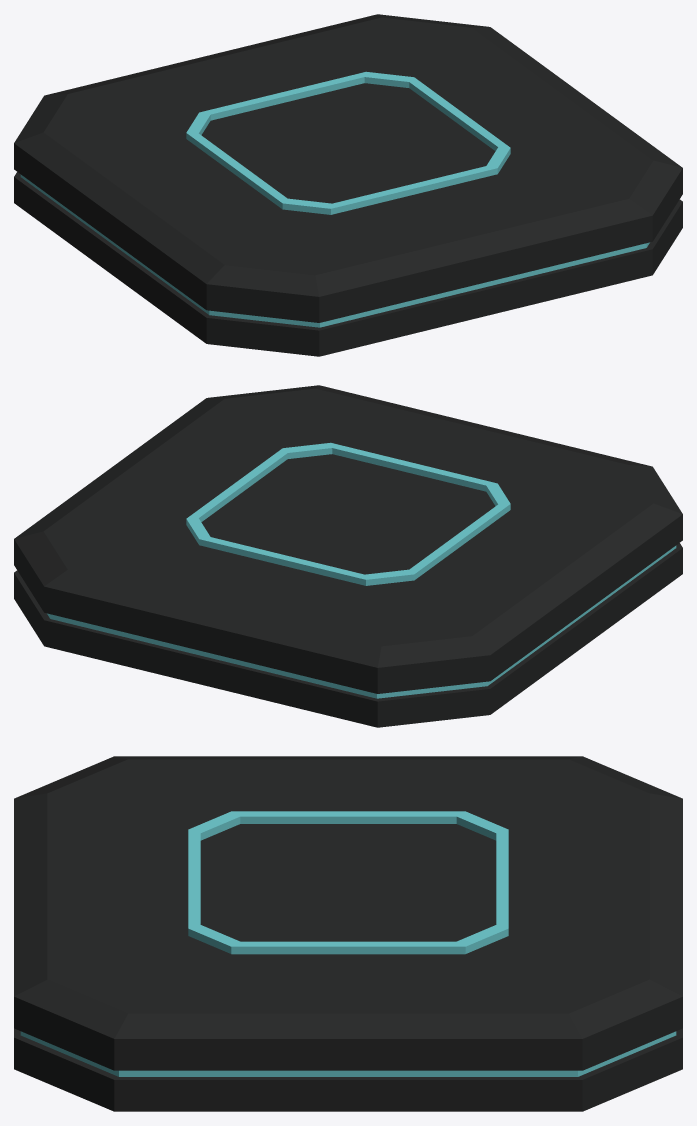
The model's file is Platform.fbx.
The picture shows the model from 3 angles, top to bottom: view 1: azimuth 30°, elevation 25°; view 2: azimuth 150°, elevation 25°; view 3: azimuth 270°, elevation 25°; orthographic projection. The views are drawn at different scales.
Visible parts, largest first — view 1: Cube; view 2: Cube; view 3: Cube.
Part boxes in pixels (x1,y1,x2,y2): Cube: (14,14,682,356); Cube: (14,385,682,727); Cube: (14,756,682,1111).
Size of the model in its own units: 600 by 101 by 600.
